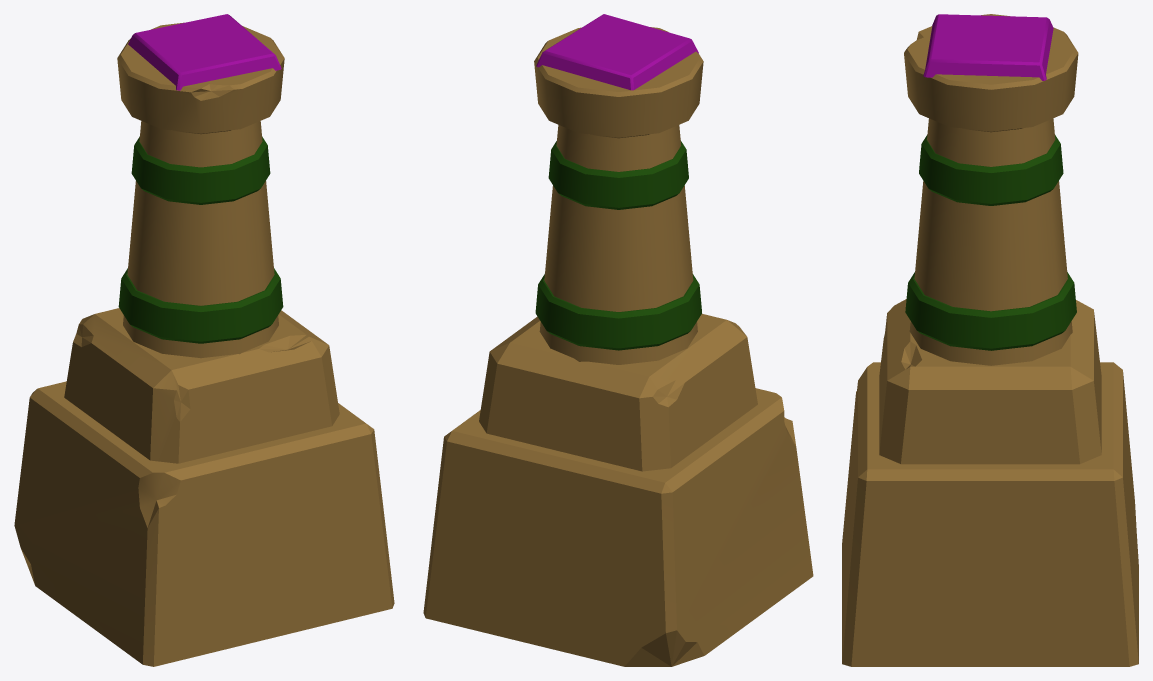
The model's file is Jungle_Pillar.fbx.
The picture shows the model from 3 angles, left to right: view 1: azimuth 30°, elevation 25°; view 2: azimuth 150°, elevation 25°; view 3: azimuth 270°, elevation 25°; orthographic projection. The views are drawn at different scales.
Parts seen in each view (by area): view 1: Jungle_Pillar; view 2: Jungle_Pillar; view 3: Jungle_Pillar.
Part boxes in pixels (x1,y1,x2,y2): Jungle_Pillar: (14, 14, 394, 666); Jungle_Pillar: (423, 14, 813, 666); Jungle_Pillar: (842, 14, 1138, 666).
Size of the model in its own units: 9.54 by 19.66 by 9.34.
